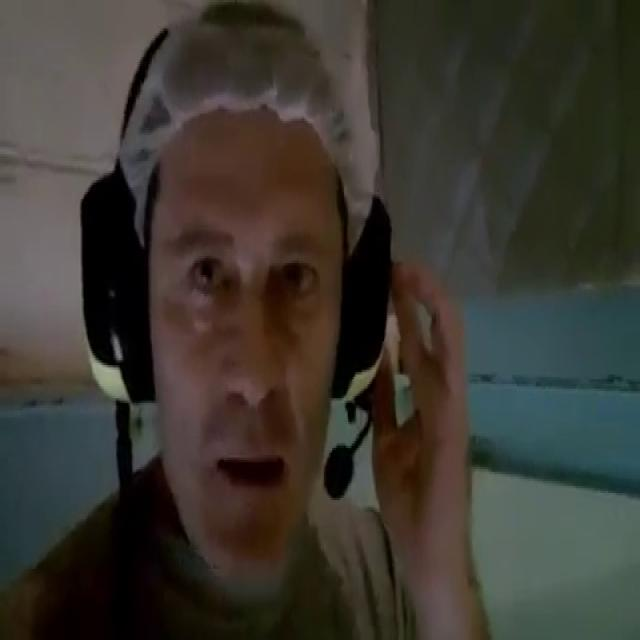earmuff: (78, 170, 158, 408), (328, 186, 393, 407)
